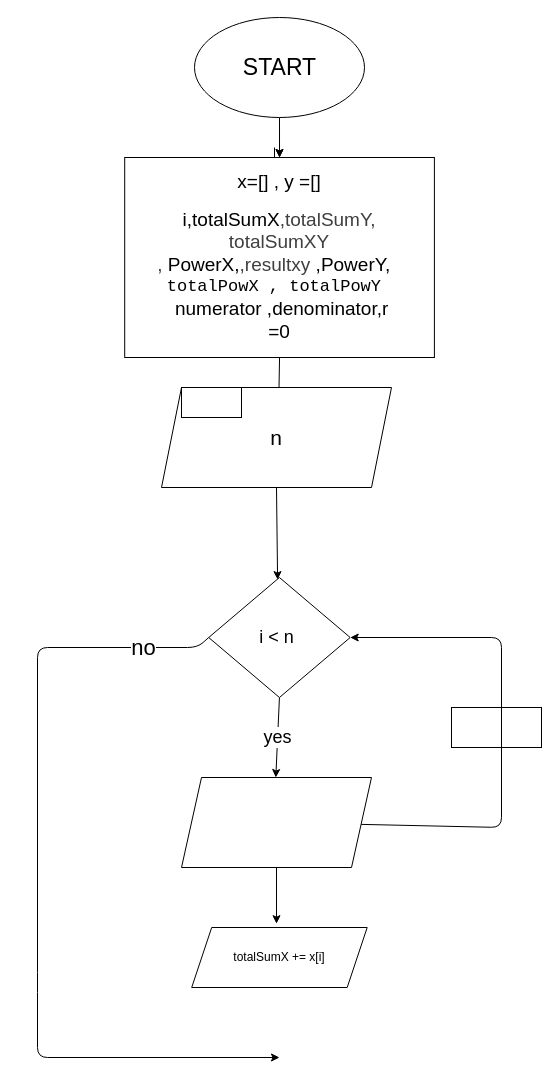
This 559x1083 diagram has some shape labels left out. Here are the shapes that lost their labels. From the top down, the centre of each, then its label:
the point at 211,402: write
the point at 496,727: i++
the point at 276,822: x i
